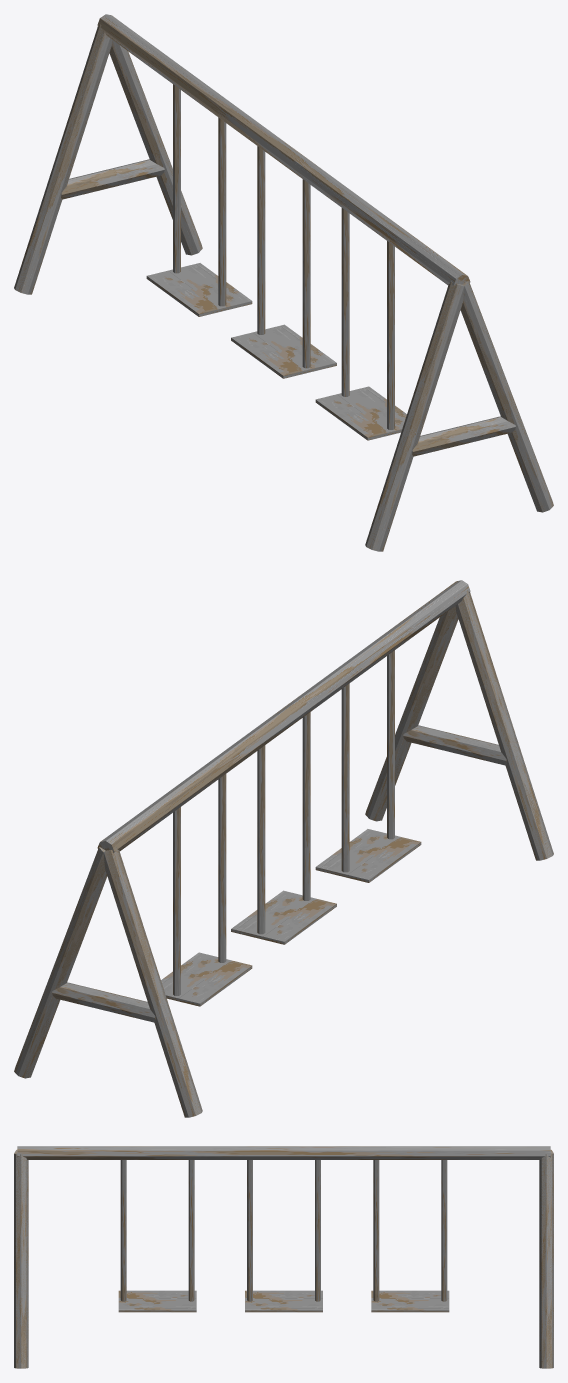
File: Swing.fbx
3 renders of one model, top to bottom at view 1: azimuth 30°, elevation 25°; view 2: azimuth 150°, elevation 25°; view 3: azimuth 270°, elevation 25°, orthographic. The views are drawn at different scales.
Visible parts, largest first — view 1: Cylinder, Cube, Cube.003, Cube.004, Cylinder.002, Cylinder.003, Cylinder.001, Cylinder.004, Cylinder.006, Cylinder.005; view 2: Cylinder, Cube, Cube.004, Cube.003, Cylinder.003, Cylinder.002, Cylinder.004, Cylinder.001, Cylinder.005, Cylinder.006; view 3: Cylinder, Cube.003, Cube.004, Cube, Cylinder.001, Cylinder.004.
Part boxes in pixels (<box>): Cylinder: <box>97,14,470,286</box>; Cube: <box>231,146,336,378</box>; Cube.003: <box>146,84,252,316</box>; Cube.004: <box>315,208,406,440</box>; Cylinder.002: <box>365,281,464,551</box>; Cylinder.003: <box>14,24,112,294</box>; Cylinder.001: <box>460,281,553,512</box>; Cylinder.004: <box>109,40,202,255</box>; Cylinder.006: <box>412,416,515,456</box>; Cylinder.005: <box>61,159,164,199</box>; Cylinder: <box>97,580,470,852</box>; Cube: <box>231,712,336,944</box>; Cube.004: <box>315,650,421,882</box>; Cube.003: <box>161,774,252,1006</box>; Cylinder.003: <box>103,847,202,1117</box>; Cylinder.002: <box>455,590,553,860</box>; Cylinder.004: <box>14,847,107,1078</box>; Cylinder.001: <box>365,606,458,821</box>; Cylinder.005: <box>52,982,155,1022</box>; Cylinder.006: <box>403,725,506,765</box>; Cylinder: <box>17,1146,550,1159</box>; Cube.003: <box>371,1160,449,1312</box>; Cube.004: <box>118,1160,196,1312</box>; Cube: <box>245,1160,322,1312</box>; Cylinder.001: <box>14,1153,28,1368</box>; Cylinder.004: <box>539,1153,553,1368</box>.
Size of the model in its own units: 1156 by 1523 by 3872.
Materials: 1 (1 with a texture image).
